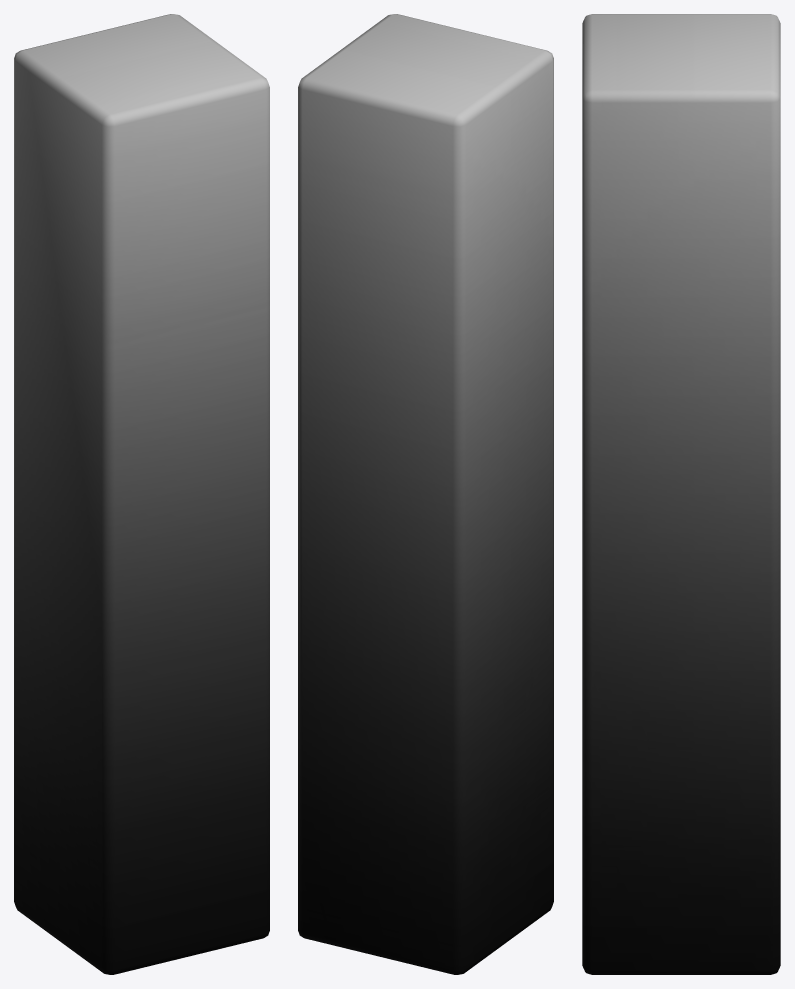
3 renders of one model, left to right at view 1: azimuth 30°, elevation 25°; view 2: azimuth 150°, elevation 25°; view 3: azimuth 270°, elevation 25°, orthographic. The views are drawn at different scales.
Visible parts, largest first — view 1: Cube; view 2: Cube; view 3: Cube.
Boxes of the visible parts, x1,y1,x2,y2 form: Cube: [14, 14, 269, 974]; Cube: [298, 14, 553, 974]; Cube: [582, 14, 780, 974].
Size of the model in its own units: 70.29 by 346 by 70.29.
Materials: 1 (1 with a texture image).
